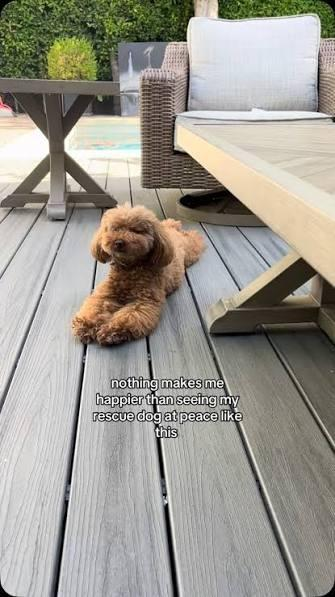adult_dog: (73, 205, 208, 348)
